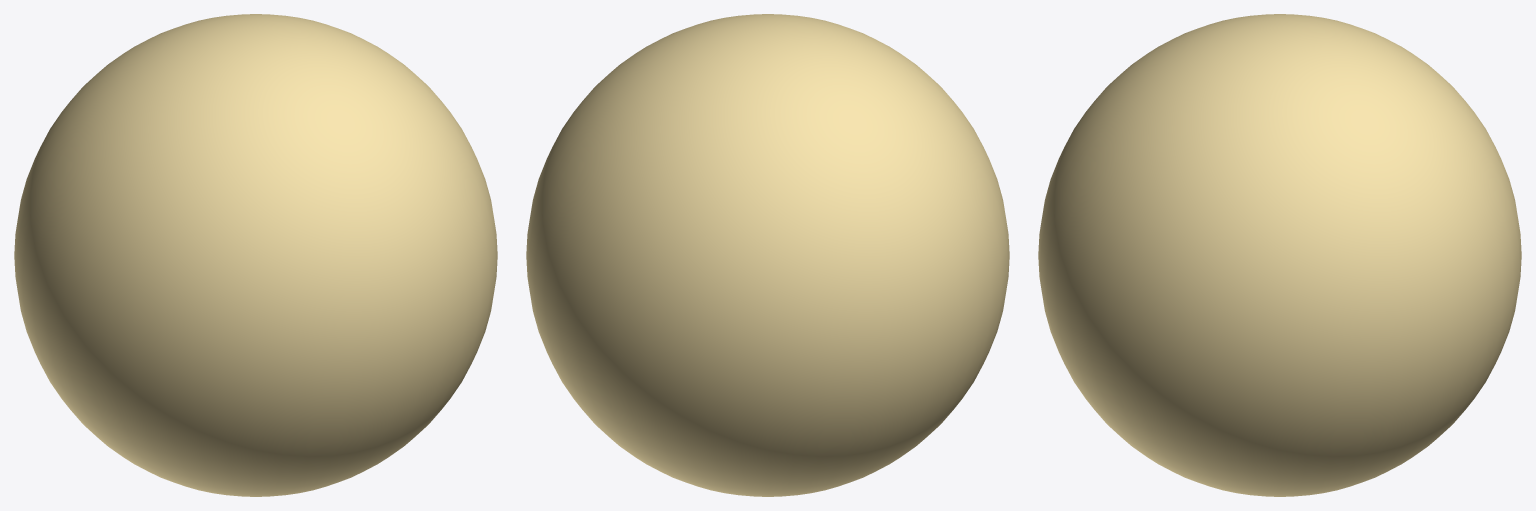
File: genesis_sphere.gltf
3 renders of one model, left to right at view 1: azimuth 30°, elevation 25°; view 2: azimuth 150°, elevation 25°; view 3: azimuth 270°, elevation 25°, orthographic.
Parts seen in each view (by area): view 1: GenesisSphere; view 2: GenesisSphere; view 3: GenesisSphere.
Part boxes in pixels (<box>): GenesisSphere: <box>14,14,497,496</box>; GenesisSphere: <box>526,14,1009,496</box>; GenesisSphere: <box>1038,14,1521,496</box>.
Bounding box in the file's own units: 2 × 2 × 2.
